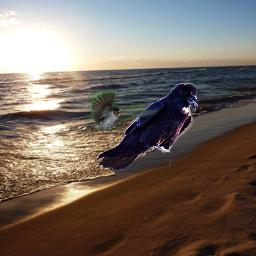Crow: (97, 83, 198, 170)
Swallow: (84, 91, 158, 130)
